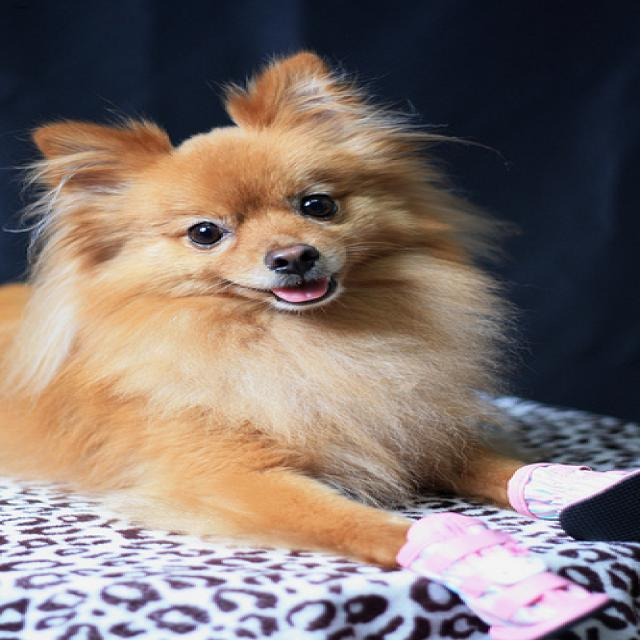dog-pomeranian: (2, 41, 542, 572)
